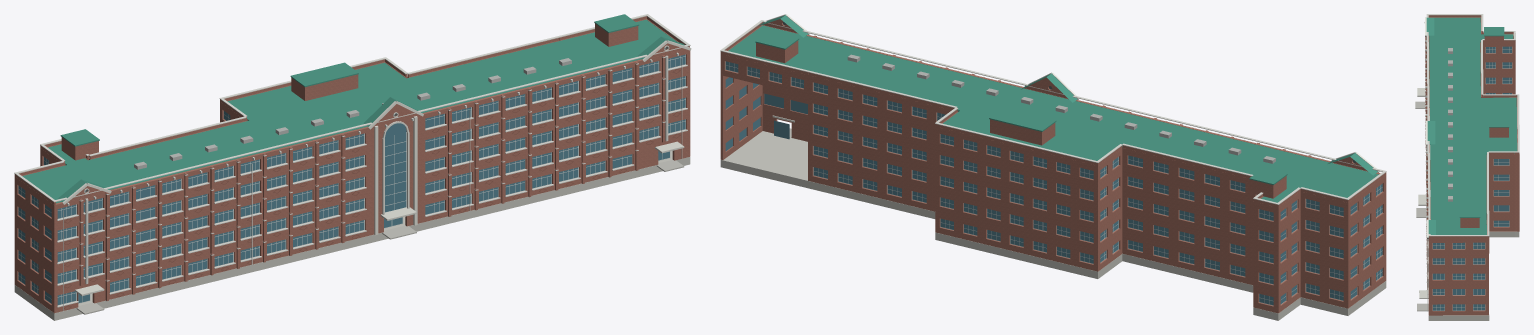
3 views of the same model, side by side, from view 1: azimuth 30°, elevation 25°; view 2: azimuth 150°, elevation 25°; view 3: azimuth 270°, elevation 25° (orthographic). The views are drawn at different scales.
Parts seen in each view (by area): view 1: main__brick, main__glass, main__roof, main__white, main__classroom-frame, main__stone, main__arch-frame, main__diamond, main__equipment, main__frame, main__gable, main__threshold-entry (+1 smaller); view 2: main__brick, main__roof, main__glass, main__stone, main__frame, main__white, main__equipment, main__gable; view 3: main__roof, main__brick, main__glass, main__white, main__frame, main__stone, main__equipment, main__threshold-entry, main__canopy, main__arch-frame.
Boxes of the visible parts, bbox=[...] form: main__brick: bbox=[14, 16, 690, 313]; main__glass: bbox=[18, 54, 685, 304]; main__roof: bbox=[22, 14, 684, 203]; main__white: bbox=[14, 14, 690, 310]; main__classroom-frame: bbox=[57, 54, 685, 305]; main__stone: bbox=[14, 151, 690, 320]; main__arch-frame: bbox=[62, 40, 691, 235]; main__diamond: bbox=[64, 69, 680, 309]; main__equipment: bbox=[134, 58, 571, 169]; main__frame: bbox=[18, 111, 670, 303]; main__gable: bbox=[62, 43, 686, 202]; main__threshold-entry: bbox=[76, 159, 684, 314]; main__brick: bbox=[720, 22, 1386, 313]; main__roof: bbox=[728, 15, 1378, 202]; main__glass: bbox=[725, 61, 1382, 305]; main__stone: bbox=[720, 131, 1386, 320]; main__frame: bbox=[725, 61, 1382, 305]; main__white: bbox=[720, 20, 1386, 204]; main__equipment: bbox=[847, 54, 1275, 163]; main__gable: bbox=[763, 19, 1377, 173]; main__roof: bbox=[1426, 17, 1517, 237]; main__brick: bbox=[1425, 15, 1519, 315]; main__glass: bbox=[1433, 46, 1511, 310]; main__white: bbox=[1424, 14, 1519, 311]; main__frame: bbox=[1432, 47, 1512, 310]; main__stone: bbox=[1428, 108, 1519, 320]; main__equipment: bbox=[1448, 48, 1452, 201]; main__threshold-entry: bbox=[1415, 101, 1428, 311]; main__canopy: bbox=[1417, 88, 1428, 298]; main__arch-frame: bbox=[1425, 17, 1428, 238].
Size of the model in its own units: 108 by 22.1 by 21.51.
Materials: 14 (2 with a texture image).
